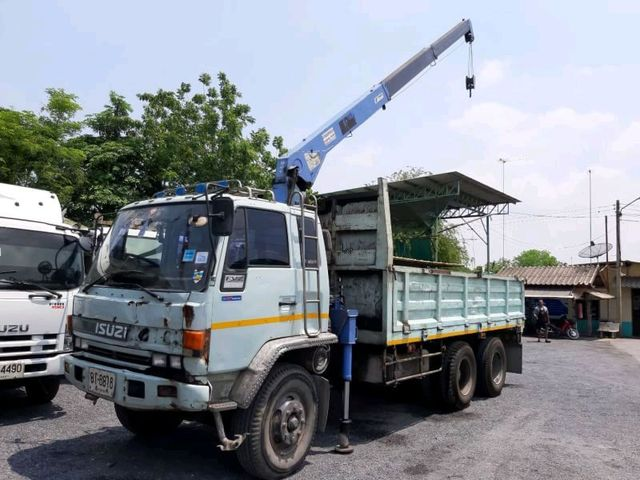truck: (64, 183, 346, 472)
